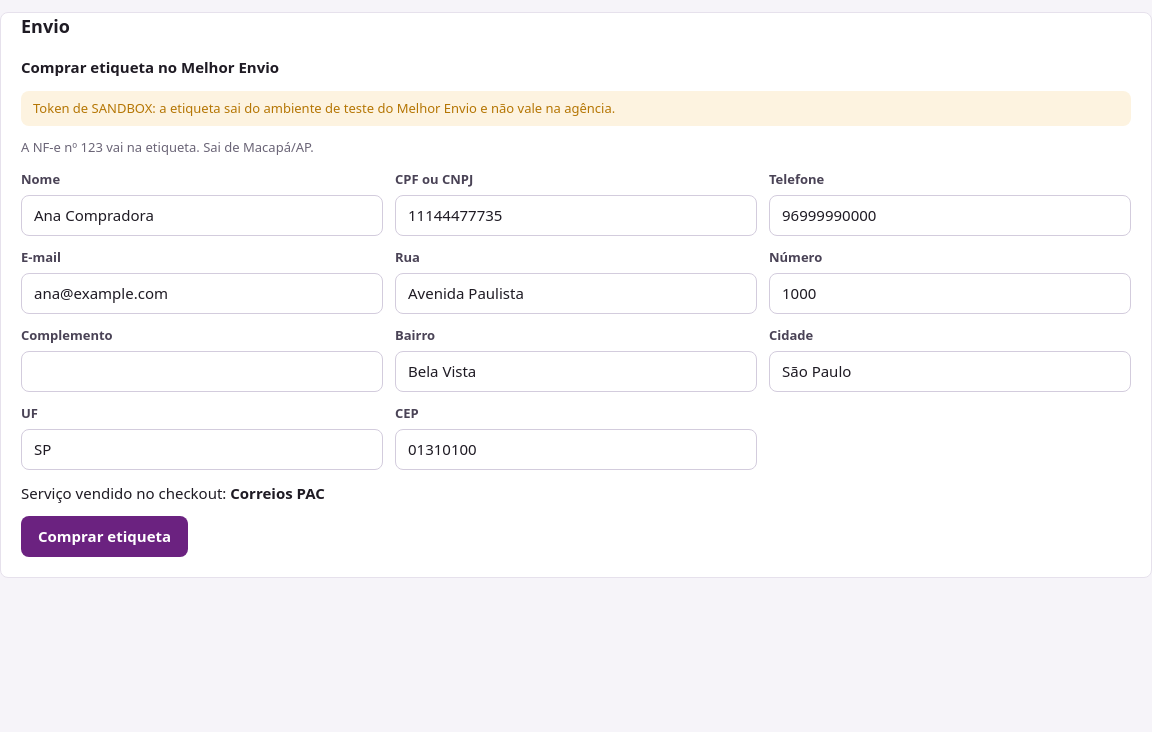
Test: a compra: destinatário confirmado, pergunta antes de gastar saldo › compra que parou no saldo mostra a frase do provedor
Step 1. Click the button "Comprar etiqueta" → (105,536), box top-left (21, 516), bottom-right (188, 556)
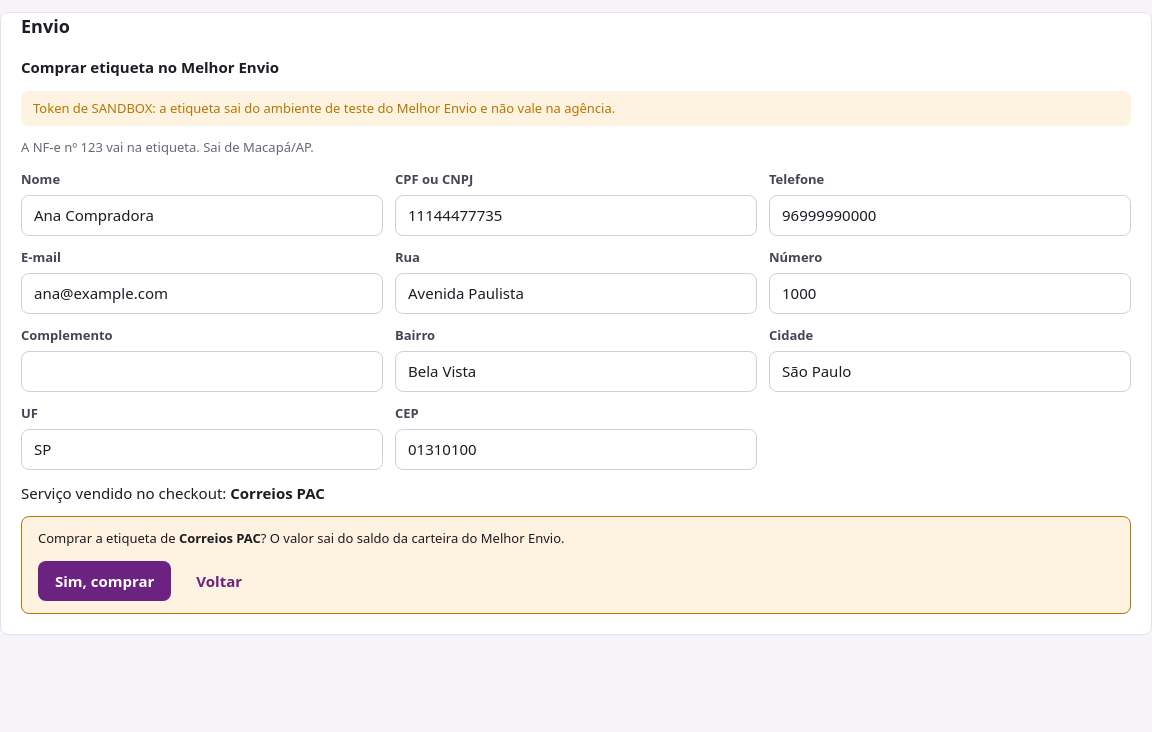
Step 2. Click the button "Sim, comprar" → (105,581), box top-left (38, 560), bottom-right (171, 601)
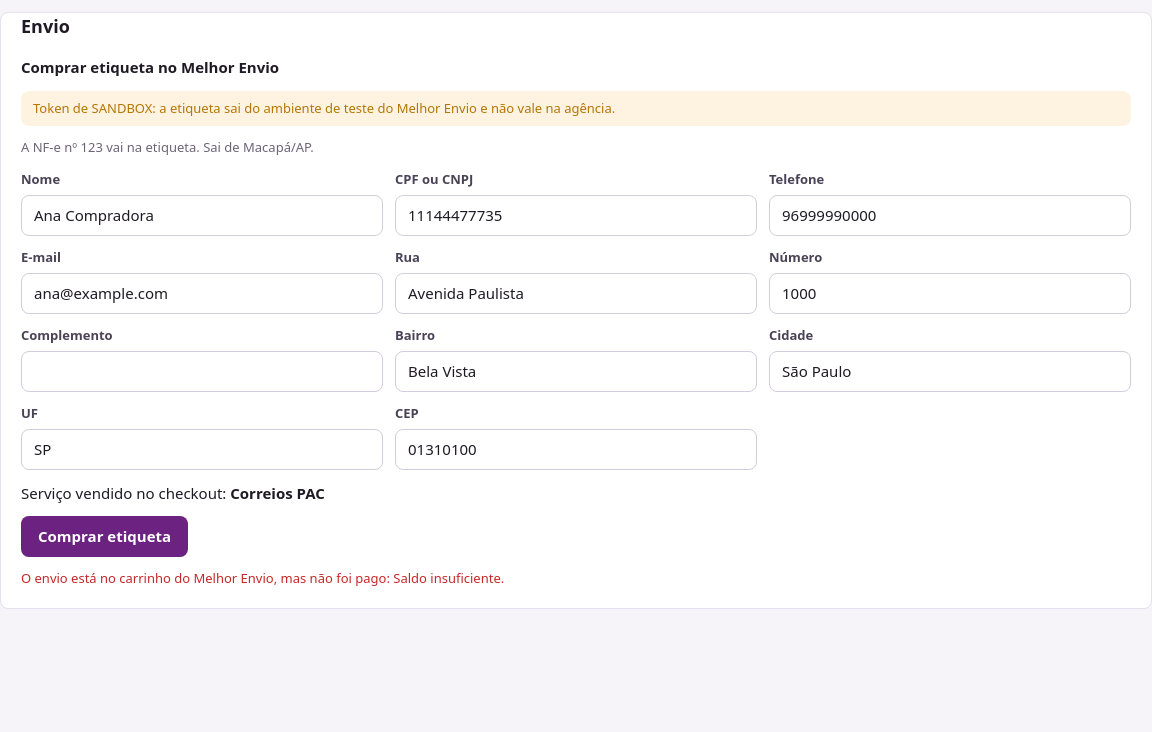
Expected: the message shows "Saldo insuficiente", top-left (21, 568), bottom-right (504, 586)
